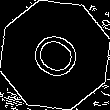O_SE: (22, 24, 88, 86)
